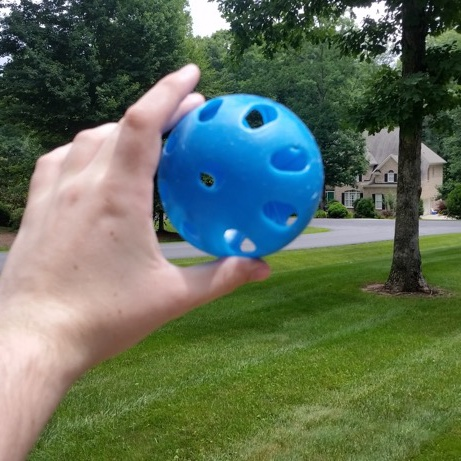ball: (153, 89, 329, 262)
